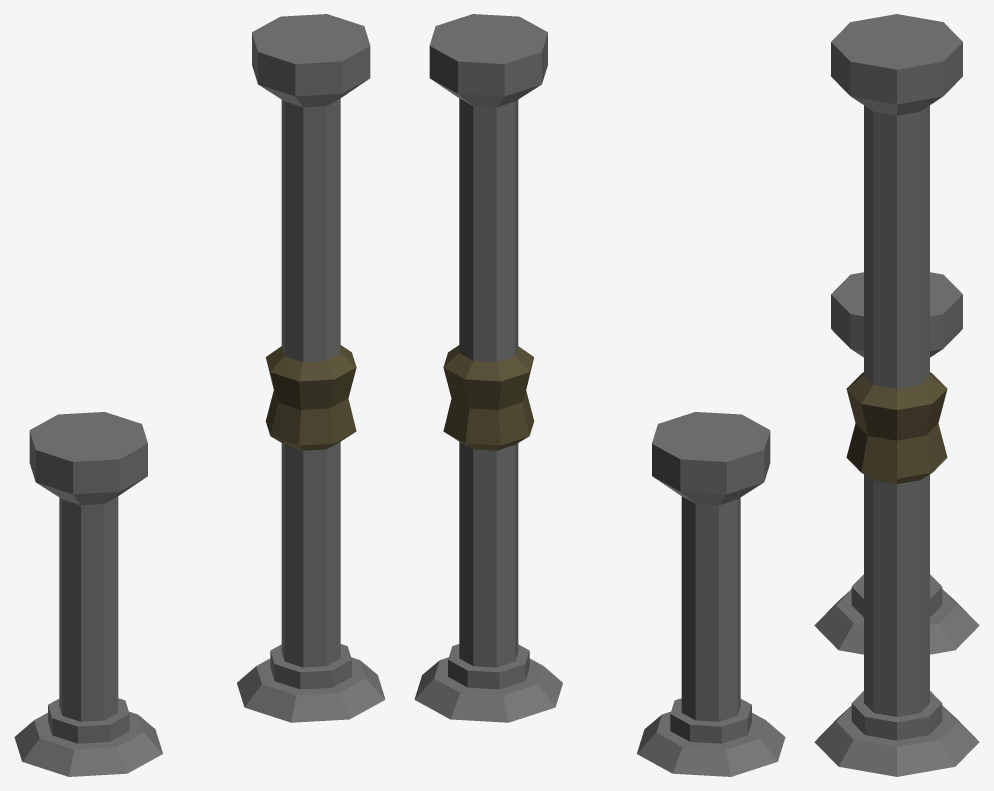
The model's file is DwieKolumny.fbx.
The picture shows the model from 3 angles, left to right: view 1: azimuth 30°, elevation 25°; view 2: azimuth 150°, elevation 25°; view 3: azimuth 270°, elevation 25°; orthographic projection. The views are drawn at different scales.
Visible parts, largest first — view 1: Cylinder.001, Cylinder; view 2: Cylinder.001, Cylinder; view 3: Cylinder.001, Cylinder.
Boxes of the visible parts, <box> form: Cylinder.001: <box>237,14,385,722</box>; Cylinder: <box>14,412,162,776</box>; Cylinder.001: <box>414,14,562,722</box>; Cylinder: <box>637,412,785,776</box>; Cylinder.001: <box>814,14,979,776</box>; Cylinder: <box>814,272,979,654</box>.
Bounding box in the file's own units: 7.24 × 12.68 × 2.71.
